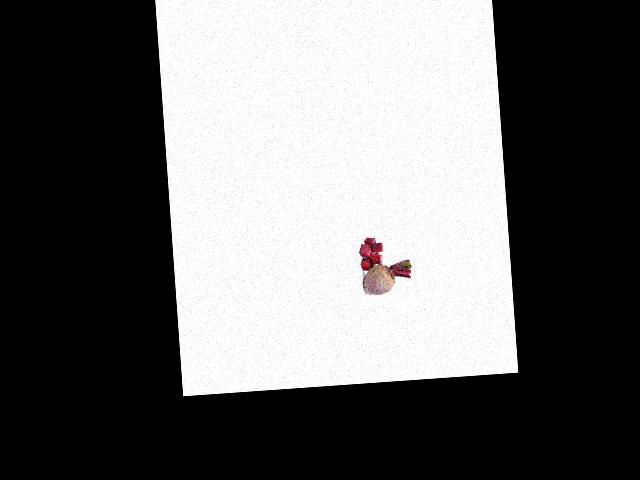beet: (361, 259, 412, 295)
